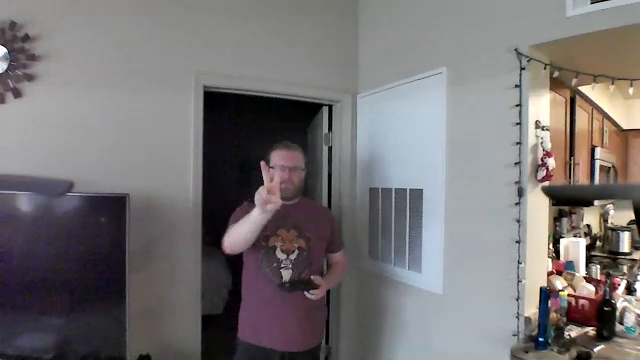peace: (252, 159, 288, 212)
